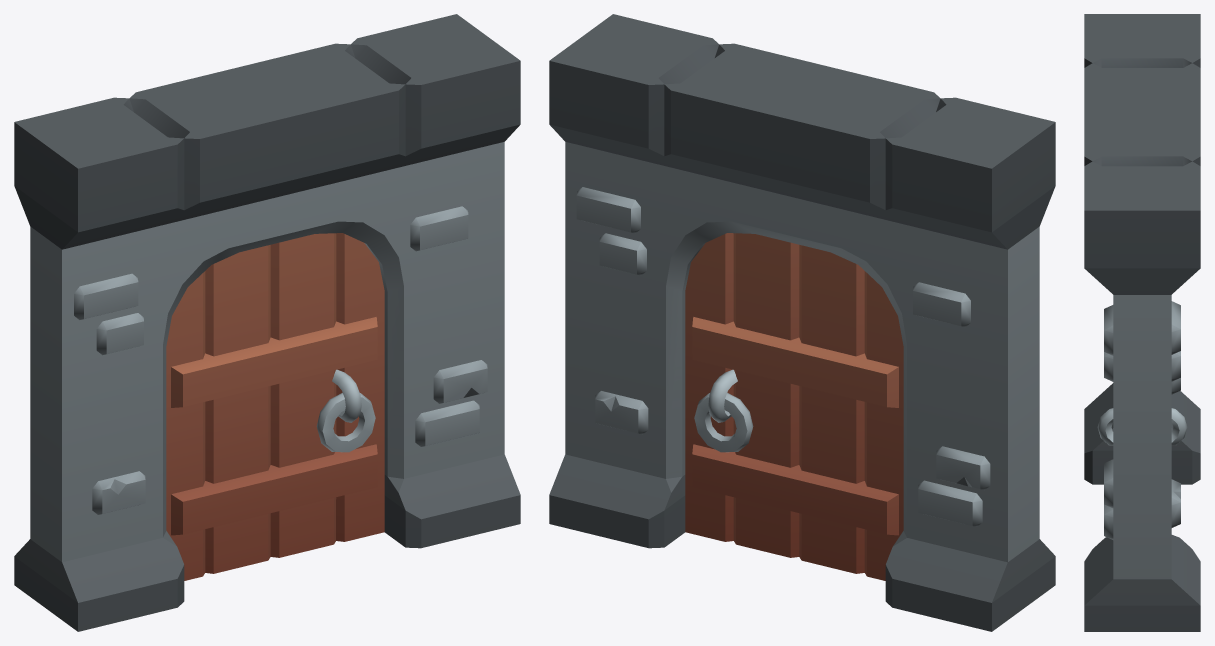
File: wall_doorway2.glb
3 renders of one model, left to right at view 1: azimuth 30°, elevation 25°; view 2: azimuth 150°, elevation 25°; view 3: azimuth 270°, elevation 25°, orthographic. The views are drawn at different scales.
Visible parts, largest first — view 1: wall_doorway, wall_doorway_door; view 2: wall_doorway, wall_doorway_door; view 3: wall_doorway, wall_doorway_door.
Part boxes in pixels (bbox=[...]): wall_doorway: bbox=[14, 14, 520, 631]; wall_doorway_door: bbox=[166, 233, 384, 580]; wall_doorway: bbox=[549, 14, 1055, 631]; wall_doorway_door: bbox=[685, 233, 903, 580]; wall_doorway: bbox=[1084, 14, 1200, 631]; wall_doorway_door: bbox=[1097, 408, 1187, 445].
Size of the model in its own units: 2 by 2 by 0.5.
Materials: 1 (1 with a texture image).
